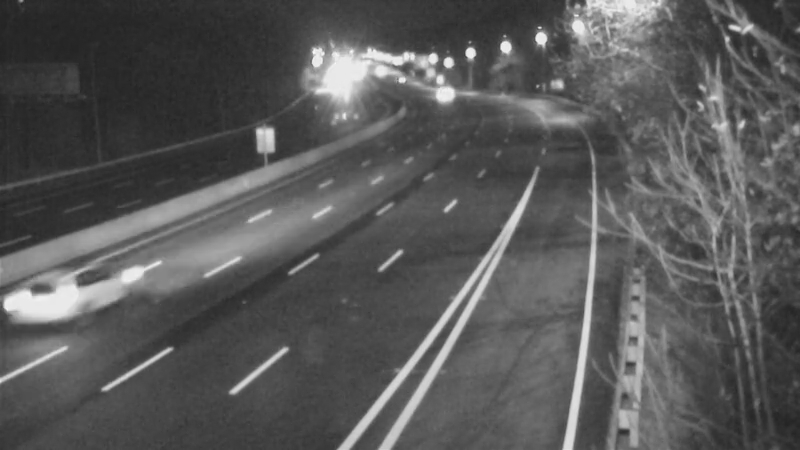vehicle: (29, 252, 109, 332), (375, 53, 425, 103), (418, 68, 468, 118)
